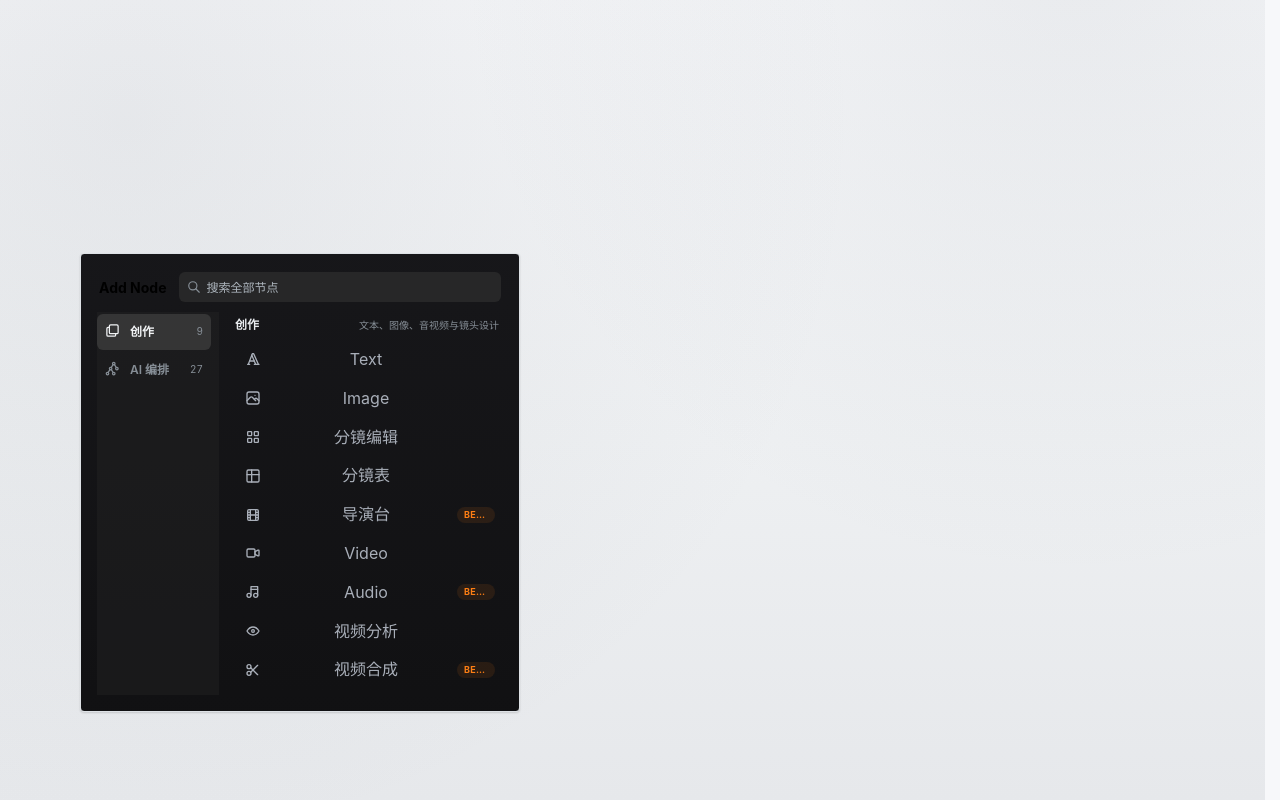
AddNodePanel admin workflow catalog › expands templates and every atomic workflow node in the second-level category
Click the button "AI 编排 27" at [154, 370], box [97,352,211,388]
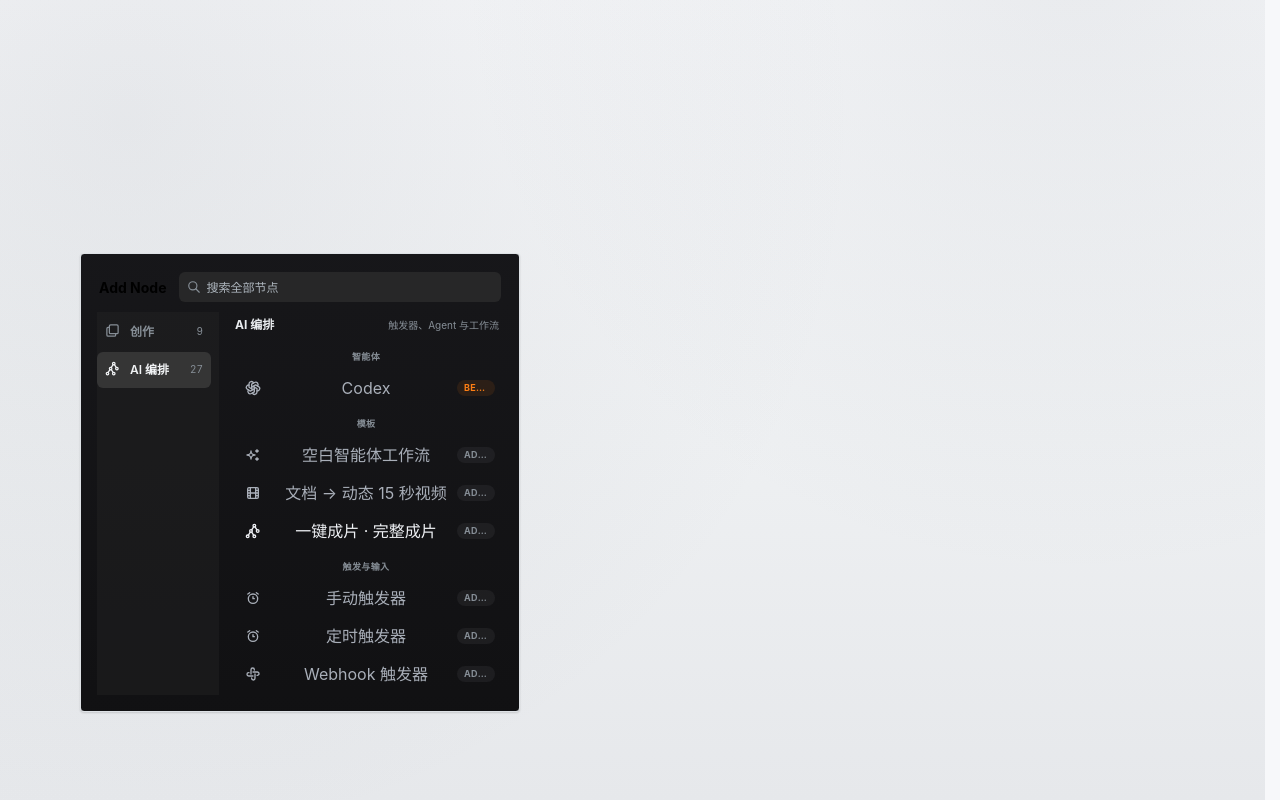
Expected: the button "空白智能体工作流 Admin" is shown, [231,438,501,472]
Expected: the button "文档 → 动态 15 秒视频 Admin" is shown, [231,476,501,510]
Expected: the button "一键成片 · 完整成片 Admin" is shown, [231,514,501,548]
